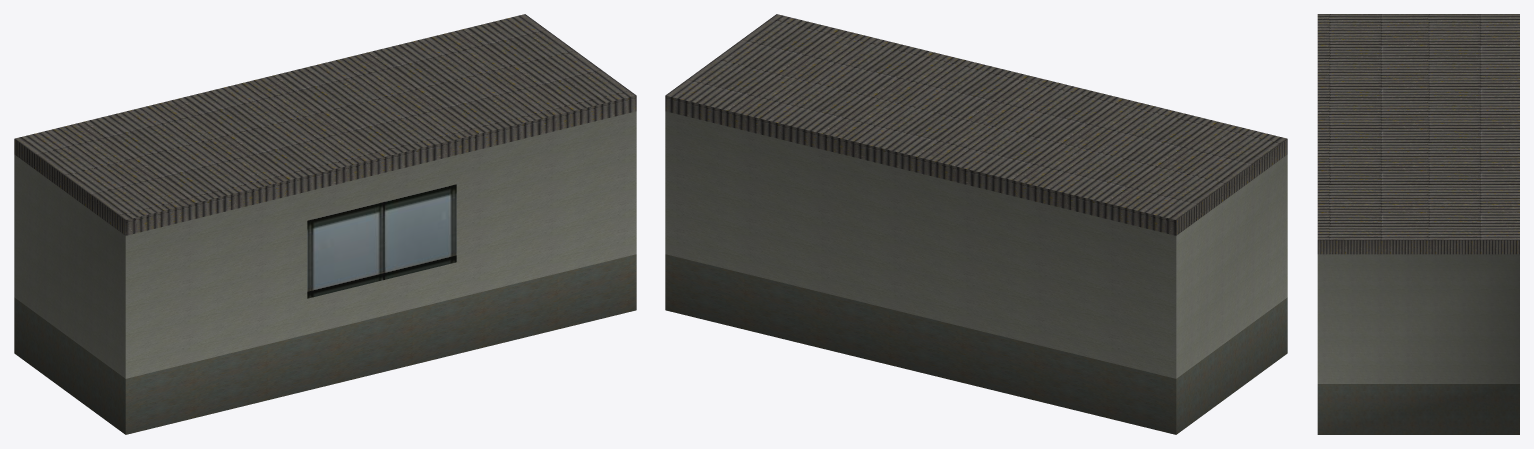
3 views of the same model, side by side, from view 1: azimuth 30°, elevation 25°; view 2: azimuth 150°, elevation 25°; view 3: azimuth 270°, elevation 25° (orthographic). The views are drawn at different scales.
Visible parts, largest first — view 1: obj33; view 2: obj33; view 3: obj33.
Boxes of the visible parts, <box> form: obj33: <box>14,14,636,434</box>; obj33: <box>665,14,1287,434</box>; obj33: <box>1317,14,1519,434</box>.
Bounding box in the file's own units: 32.4 × 13.01 × 12.34.
4 materials, 4 textured.
